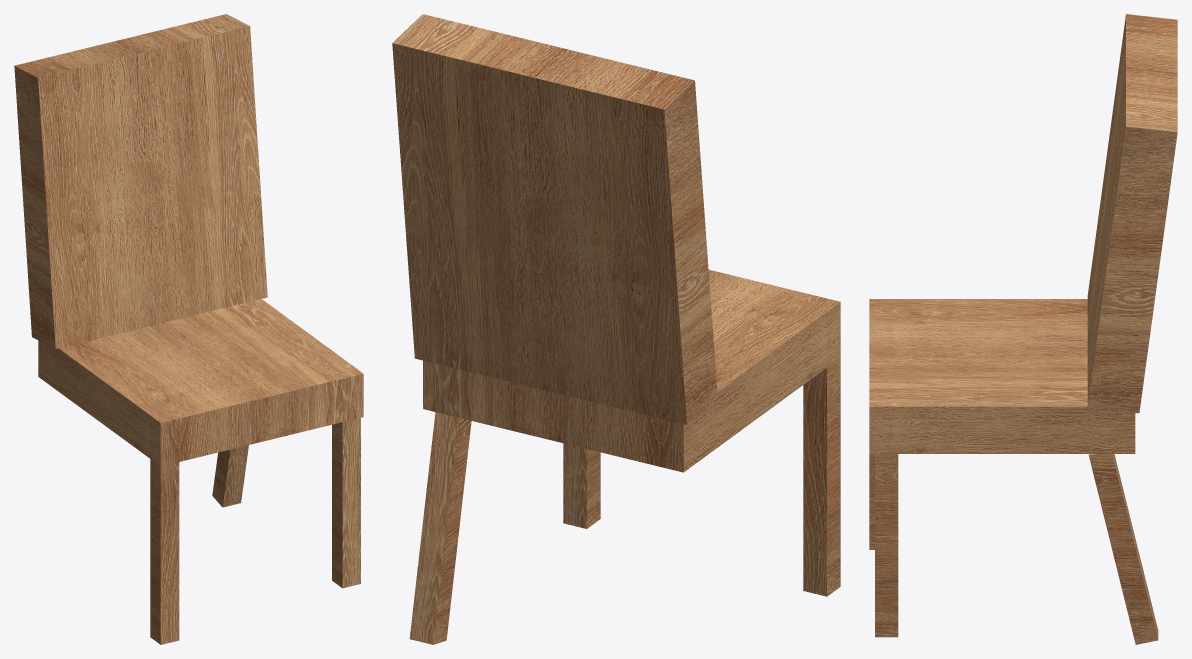
The model's file is 2360_deepcad-end2end.glb.
3 renders of one model, left to right at view 1: azimuth 30°, elevation 25°; view 2: azimuth 150°, elevation 25°; view 3: azimuth 270°, elevation 25°, orthographic. The views are drawn at different scales.
Visible parts, largest first — view 1: test_cmd_2360_pred; view 2: test_cmd_2360_pred; view 3: test_cmd_2360_pred.
Boxes of the visible parts, x1=… form: test_cmd_2360_pred: x1=14, y1=14, x2=363, y2=644; test_cmd_2360_pred: x1=392, y1=14, x2=840, y2=644; test_cmd_2360_pred: x1=869, y1=14, x2=1177, y2=644.
Size of the model in its own units: 0.4605 by 1 by 0.5336.
1 material, 1 textured.
